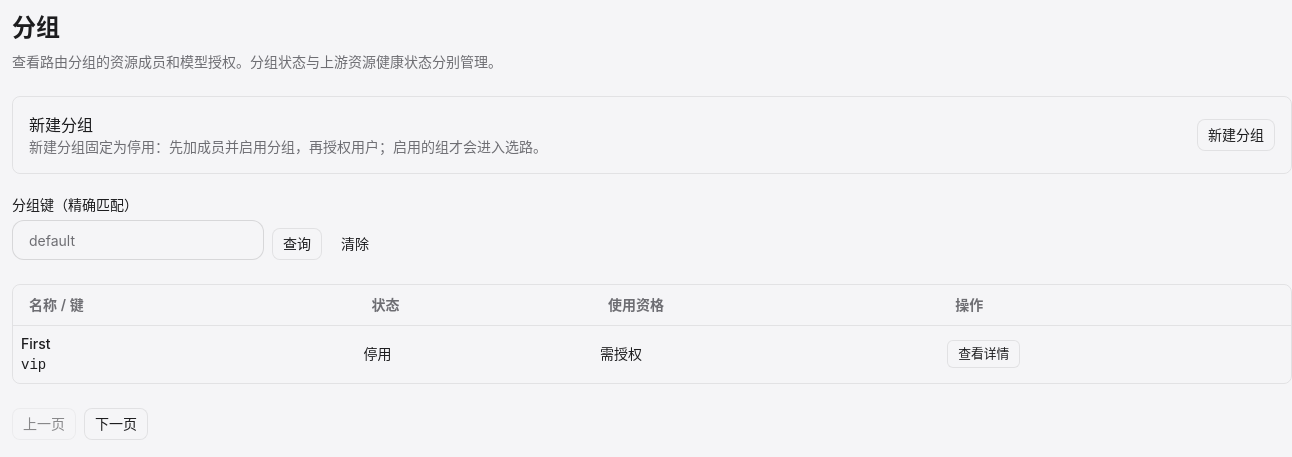
Test: AdminRoutingGroupsPage › paginates and binds an exact key filter
Expected: the text "First" is shown, [21,334,50,352]
Click the button "下一页" at (116, 424), box [84,408,148,440]
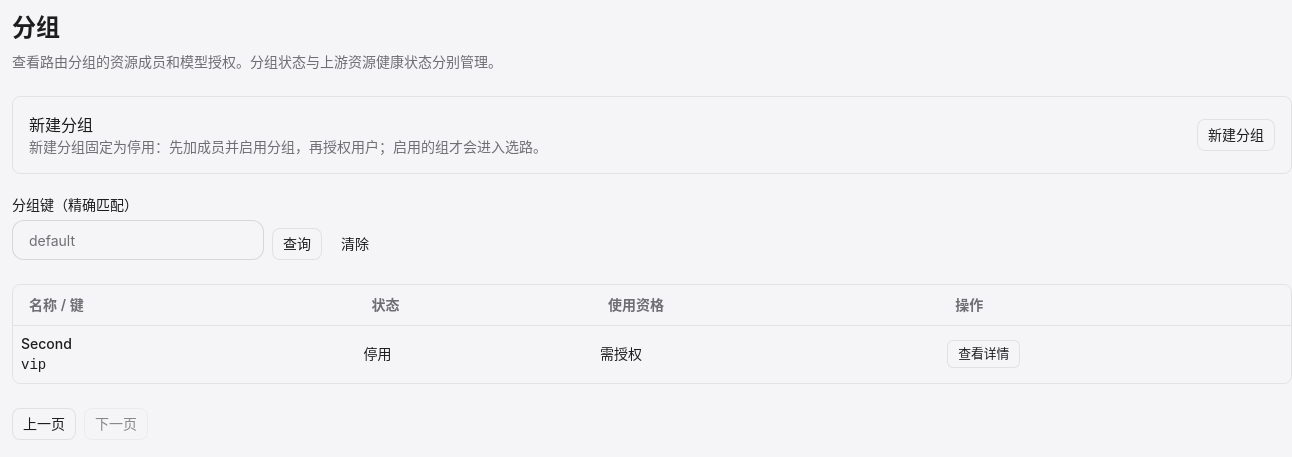
Result: the text "Second" is shown at [21,334,72,352]
Type "a_b%" into the field labelled "分组键（精确匹配）" at (138, 240), box [12,220,264,260]
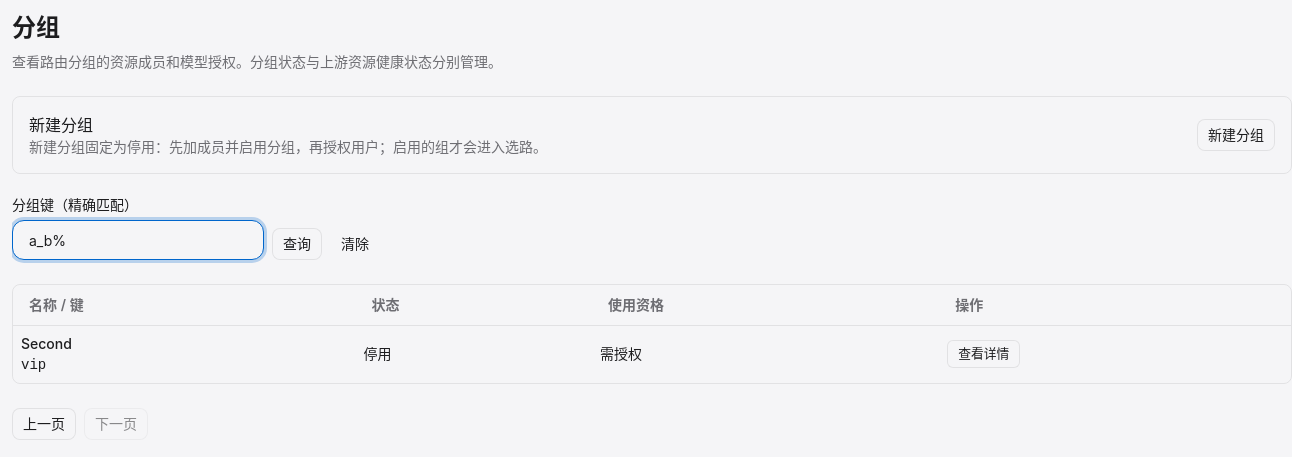
Click the button "查询" at (297, 244), box [272,228,322,260]
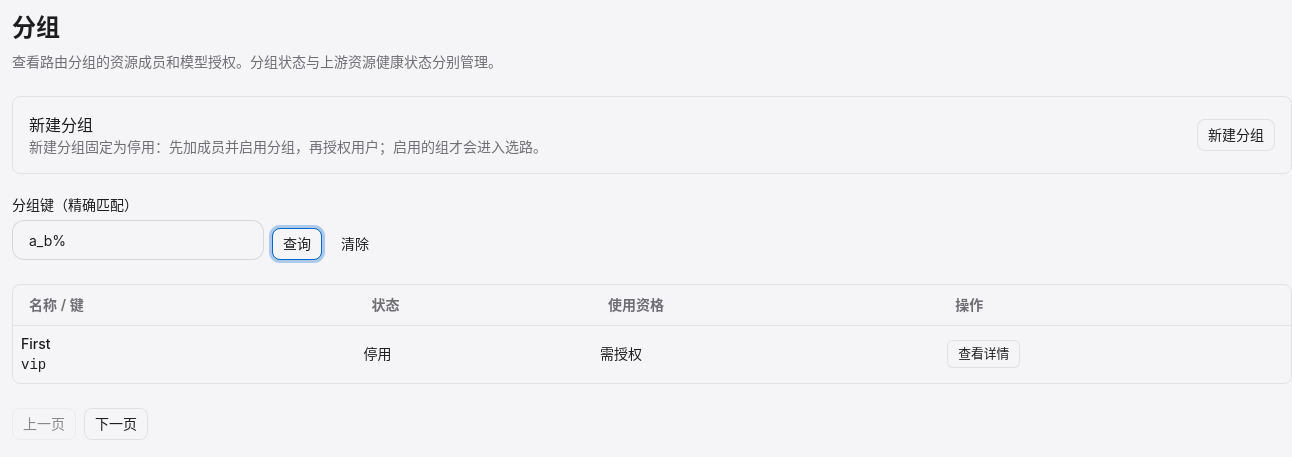
Result: the text "First" is shown at [21,334,50,352]
